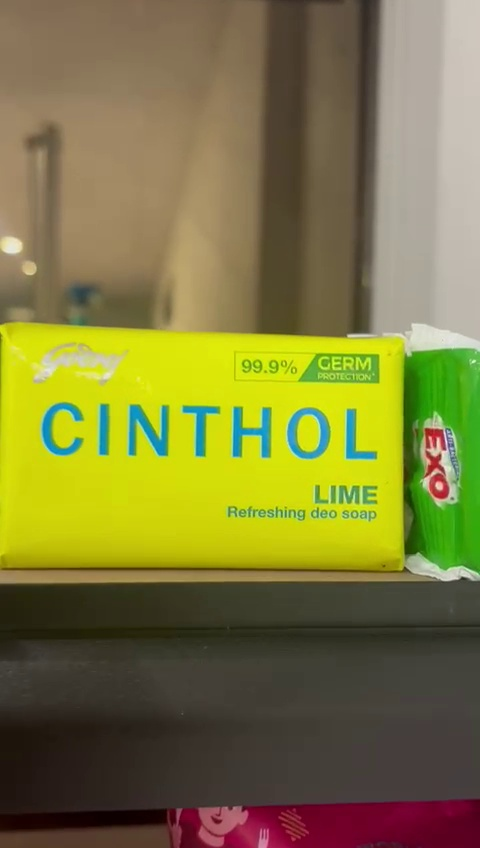Cinthol: (0, 321, 402, 566)
